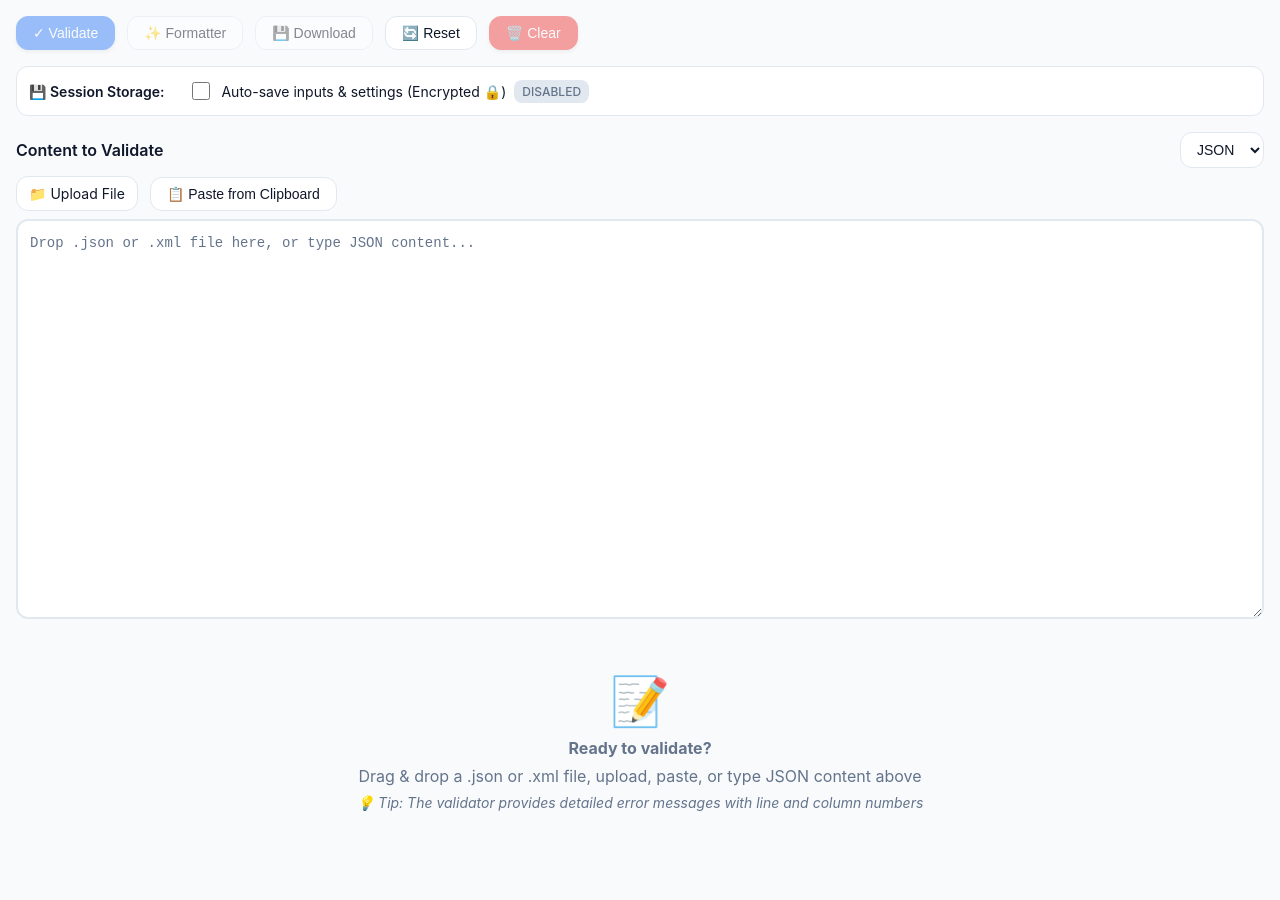
Validator Component › XML Validation - Valid › should validate valid XML successfully
The width and height of the screenshot is (1280, 900).
# Switch to XML
Select "XML" in the dropdown: (1222, 150) [1180,132,1264,168]
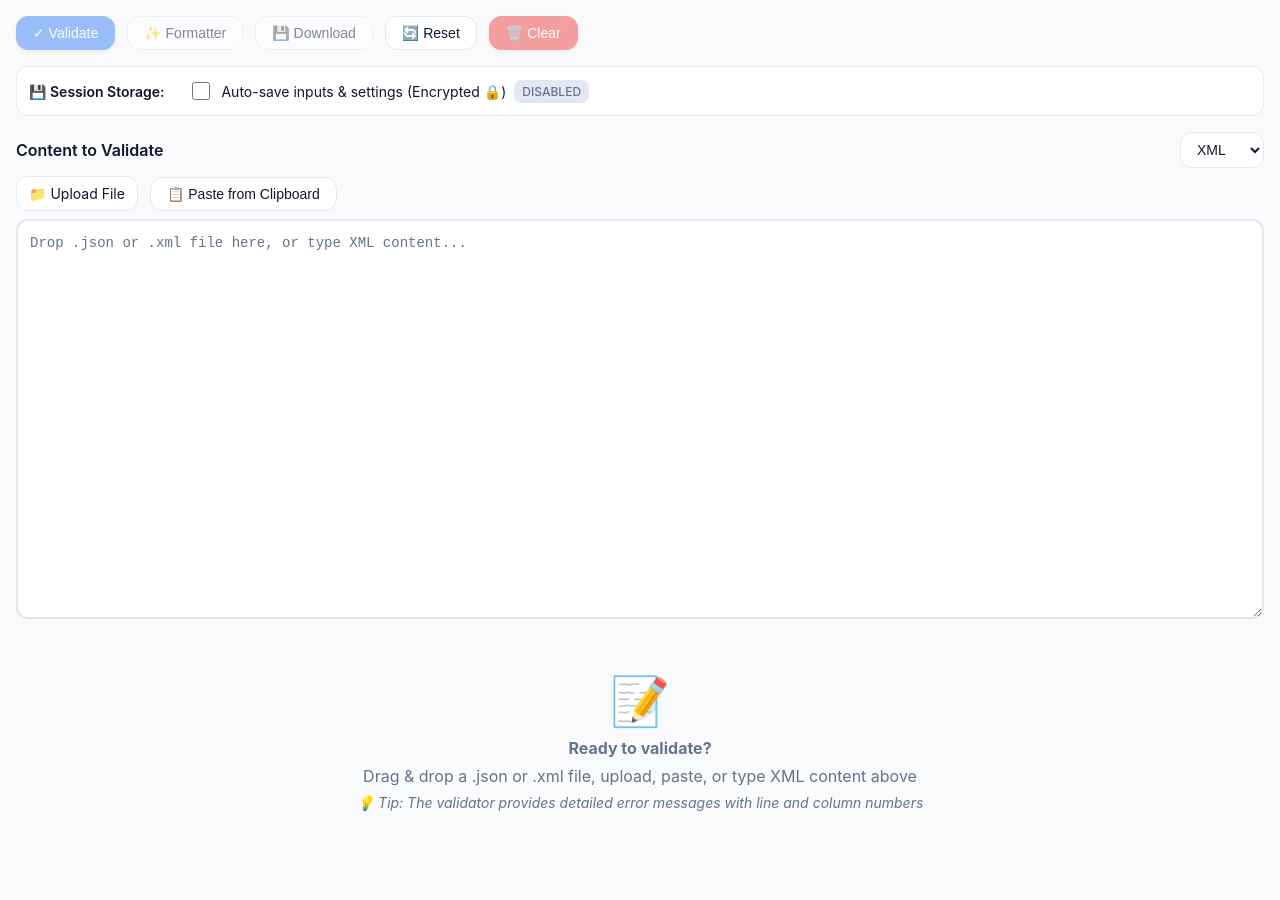
# Enter valid XML
In the text box with placeholder "Drop .json or .xml file here, or type XML content...": (640, 419) [16,219,1264,619], type "<root><item>test</item></root>"
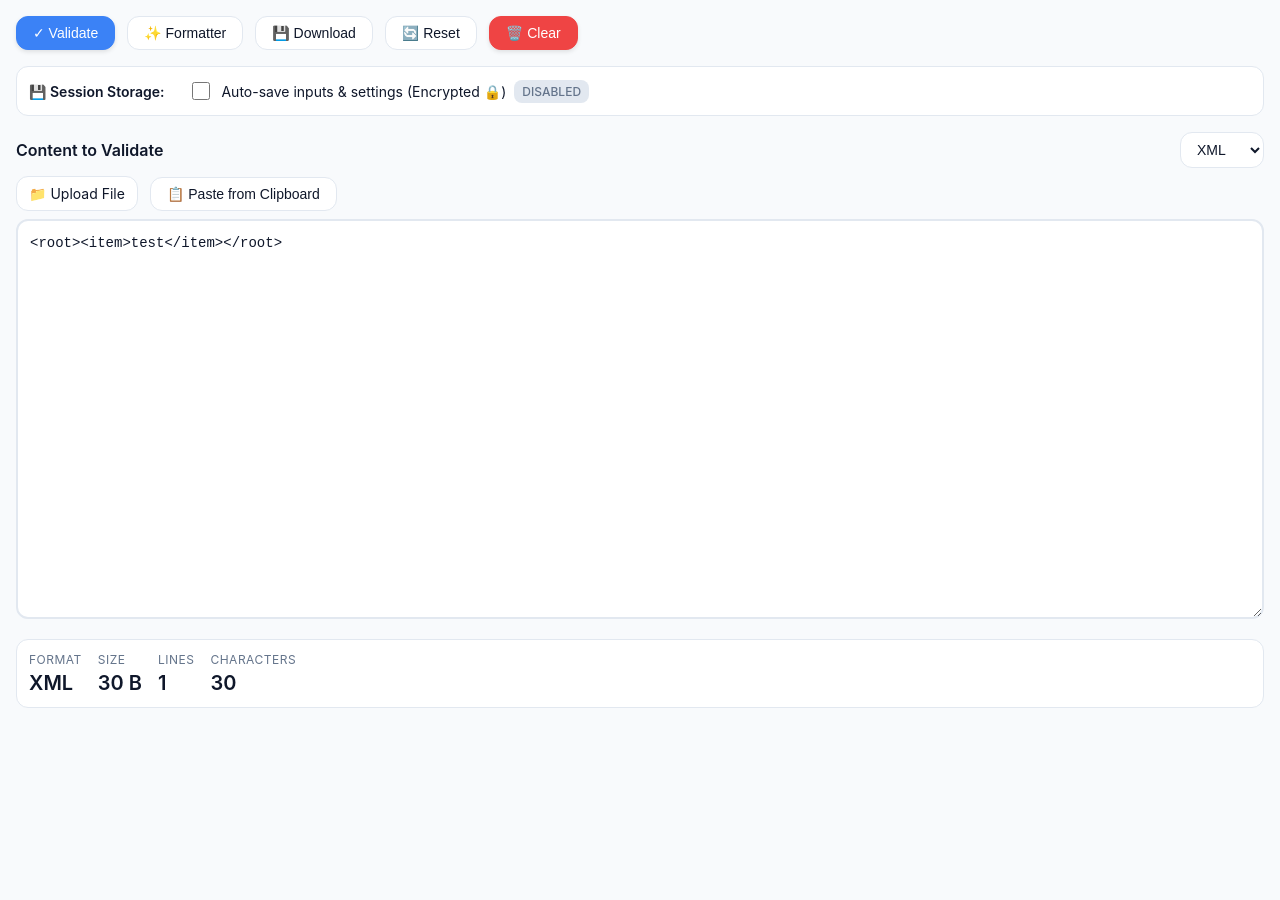
Click the button "✓ Validate": (66, 33) [16,16,115,50]
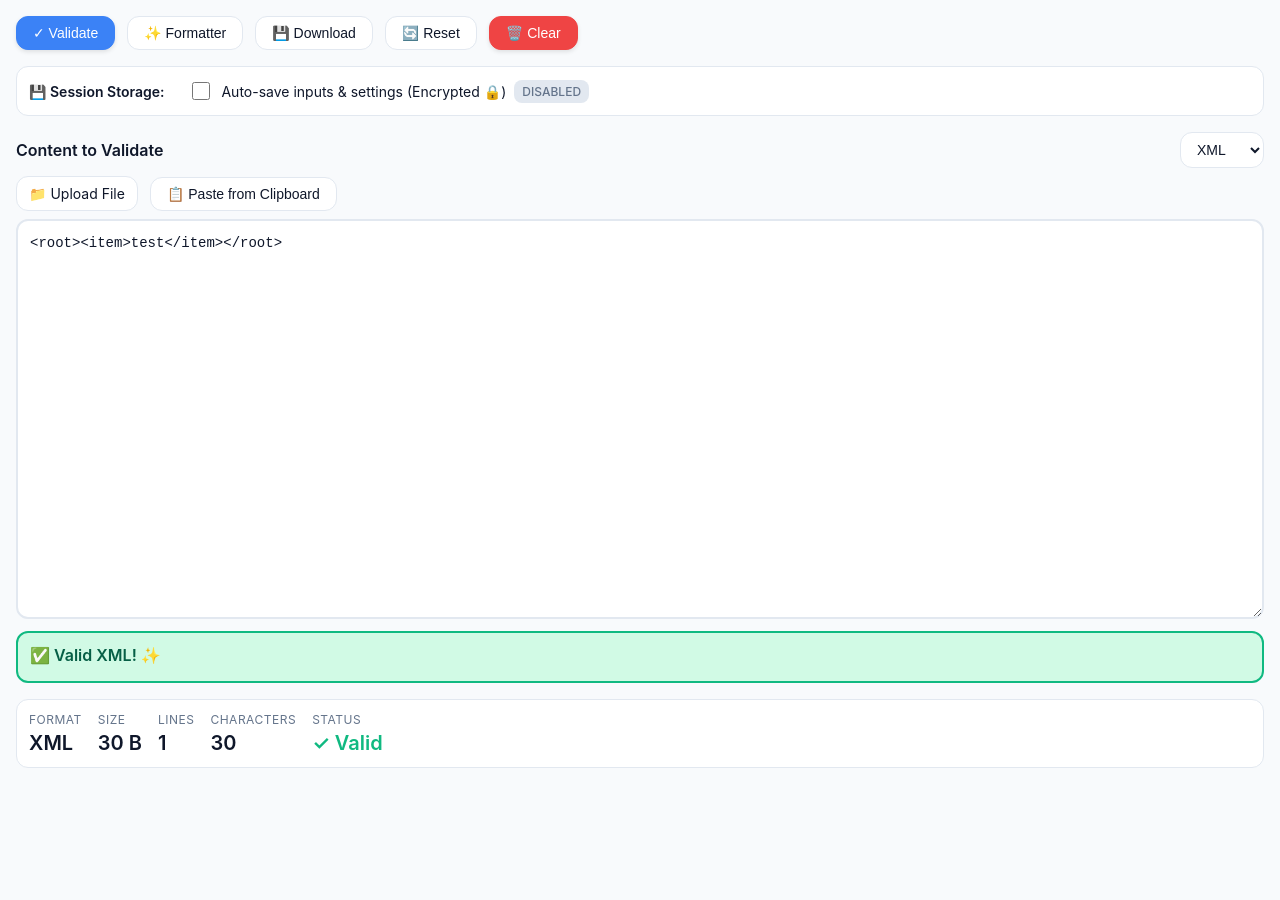
expect the text "✅ Valid XML! ✨" is shown: met, box [30,645,161,665]
